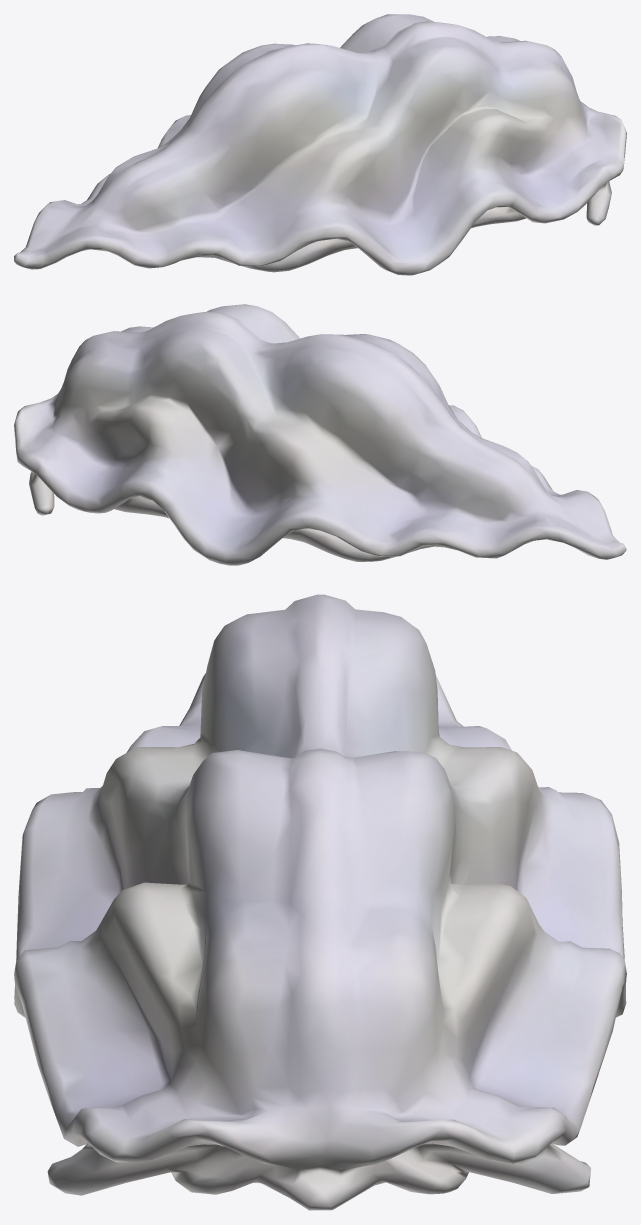
File: Body.glb
The picture shows the model from 3 angles, top to bottom: view 1: azimuth 30°, elevation 25°; view 2: azimuth 150°, elevation 25°; view 3: azimuth 270°, elevation 25°; orthographic projection. The views are drawn at different scales.
Visible parts, largest first — view 1: tripo_node_3df43081-8edf-4dba-8916-be3d9569ca9e; view 2: tripo_node_3df43081-8edf-4dba-8916-be3d9569ca9e; view 3: tripo_node_3df43081-8edf-4dba-8916-be3d9569ca9e.
Boxes of the visible parts, x1,y1,x2,y2 form: tripo_node_3df43081-8edf-4dba-8916-be3d9569ca9e: (14,14,626,275); tripo_node_3df43081-8edf-4dba-8916-be3d9569ca9e: (14,304,626,565); tripo_node_3df43081-8edf-4dba-8916-be3d9569ca9e: (14,594,626,1210).
Size of the model in its own units: 0.981 by 0.3002 by 0.4727.
1 material, 1 textured.
